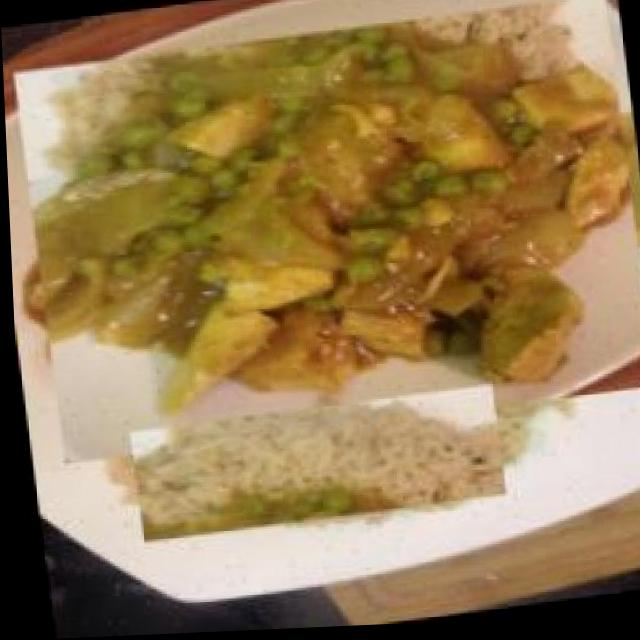curry: (11, 1, 640, 468)
rice: (124, 386, 504, 544)
